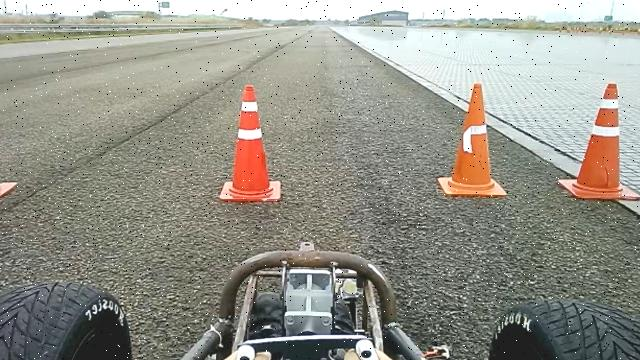red cone: (557, 82, 640, 200), (438, 81, 507, 198), (219, 84, 282, 202)
